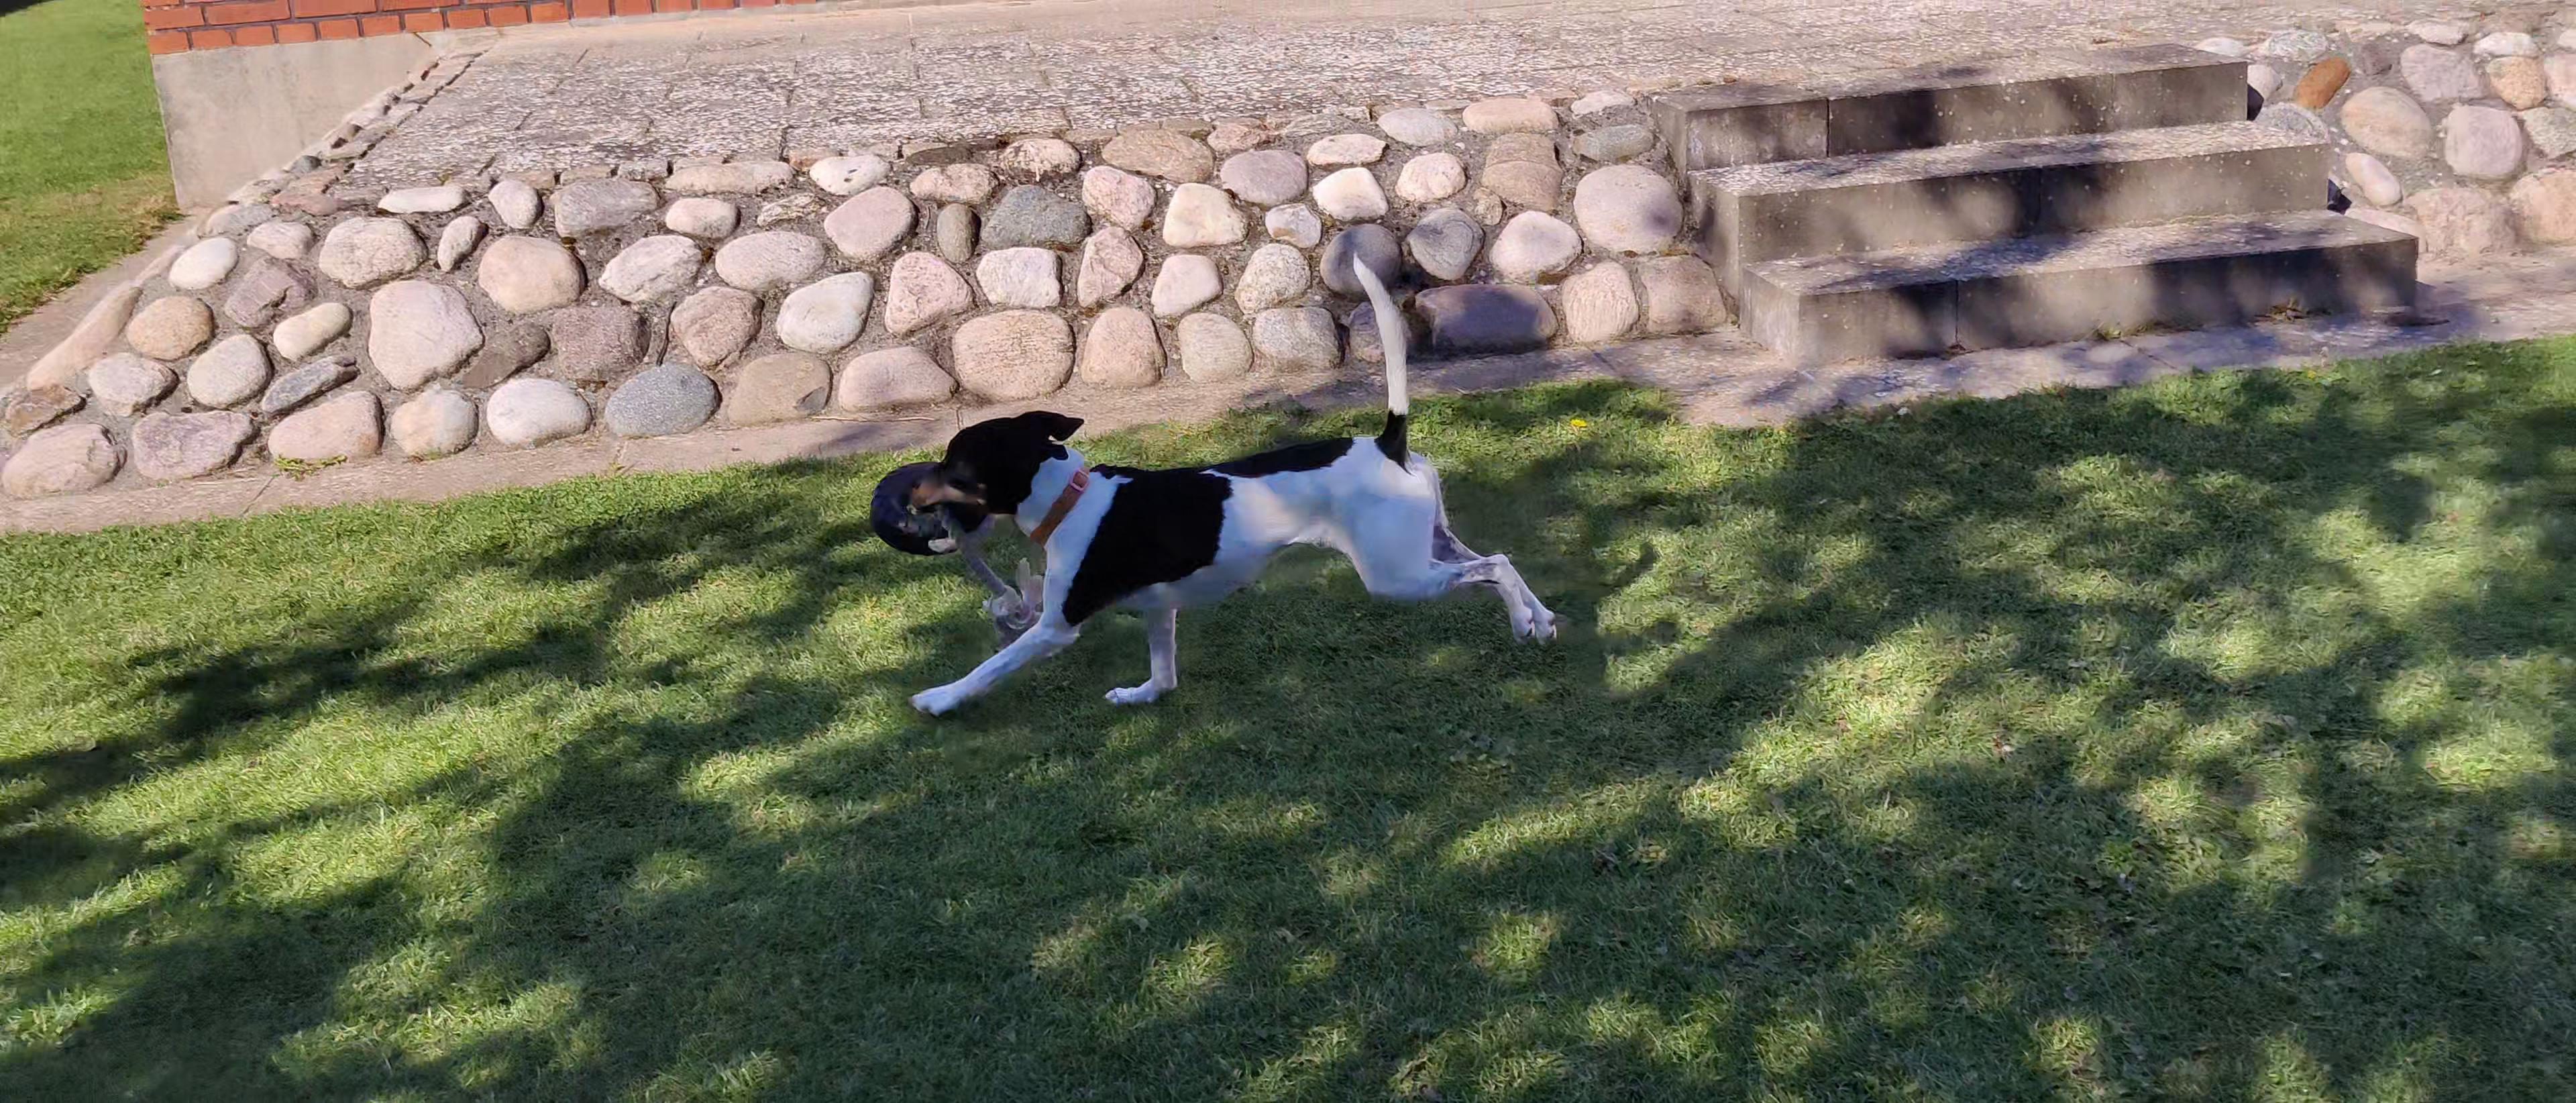Dog: (889, 242, 1571, 733)
